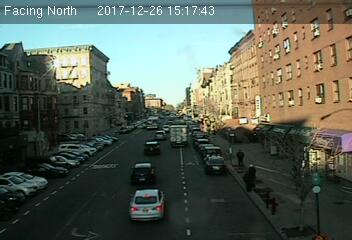car: (127, 189, 168, 222), (129, 162, 158, 185), (204, 154, 226, 173), (142, 141, 161, 155), (154, 131, 166, 141)
pedestrian: (235, 148, 246, 168)
truck: (169, 125, 188, 147)
